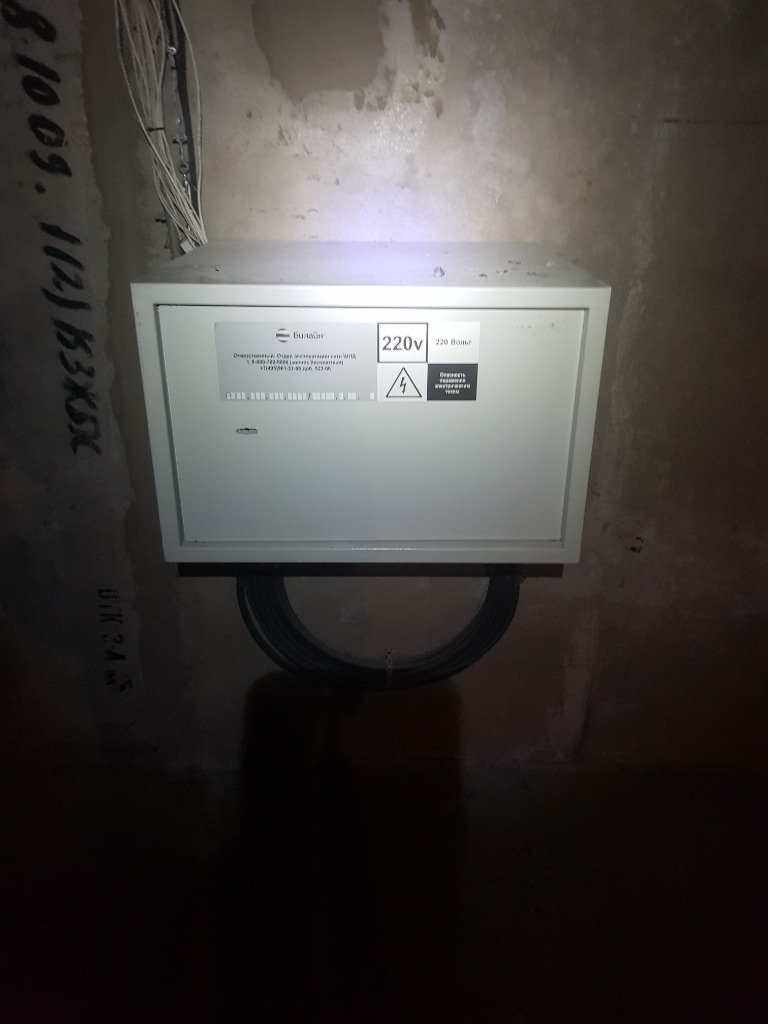shta-7m: (126, 235, 618, 570)
